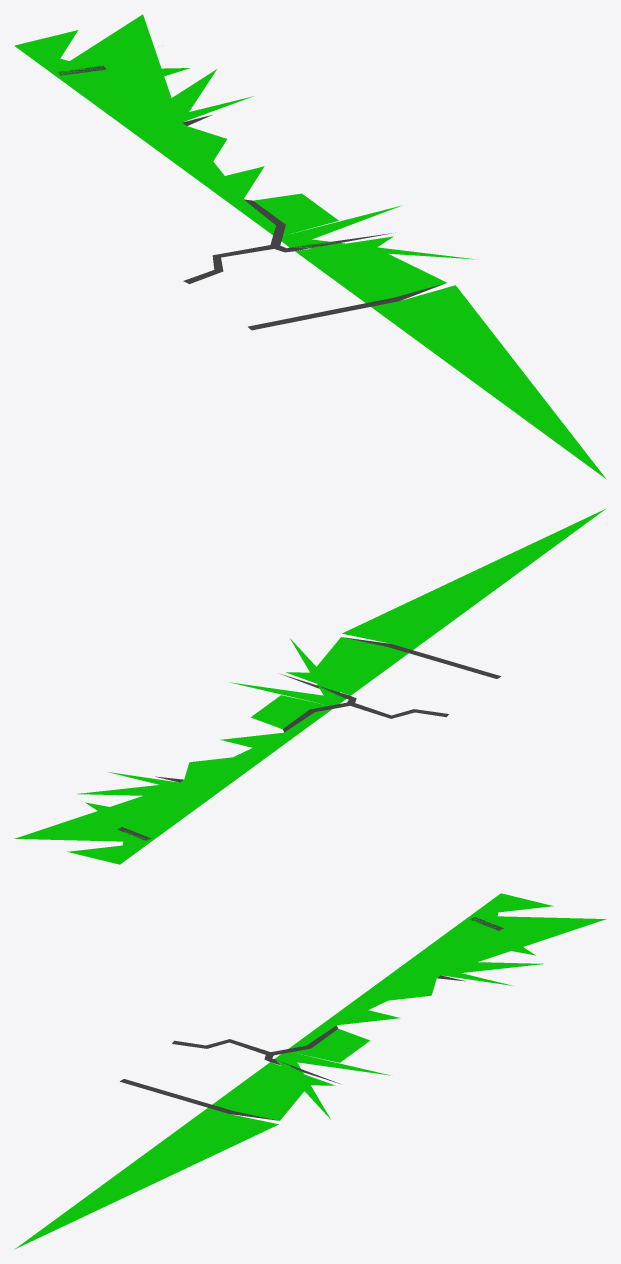
3 views of the same model, one above another, from view 1: azimuth 30°, elevation 25°; view 2: azimuth 150°, elevation 25°; view 3: azimuth 330°, elevation 25° (orthographic). The views are drawn at different scales.
Size of the model in its own units: 113 by 0 by 478.
